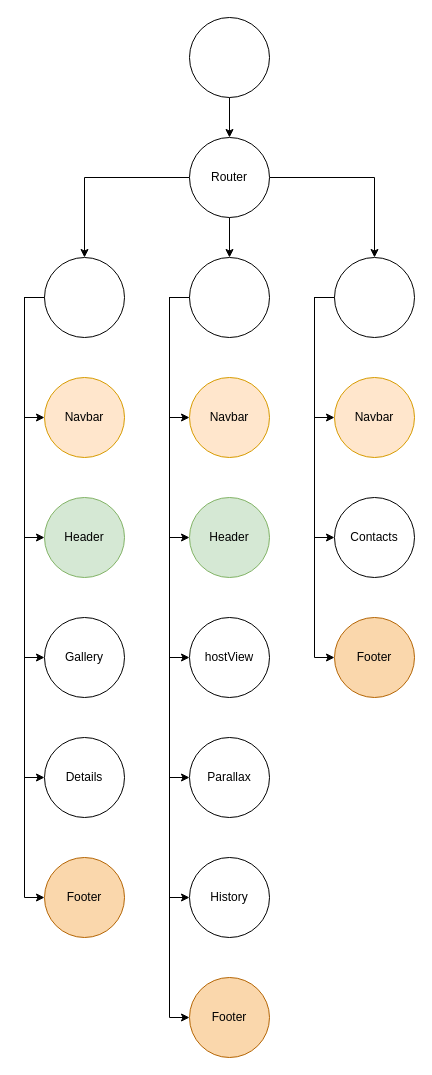
Image size: 432x1075. Some labels were removed from this diagram. Here are the shapes that lost their labels. From the top down, the centre of each, then its label:
At (229,57): "App".
At (84,297): "Home".
At (229,297): "About".
At (374,297): "Contact".
